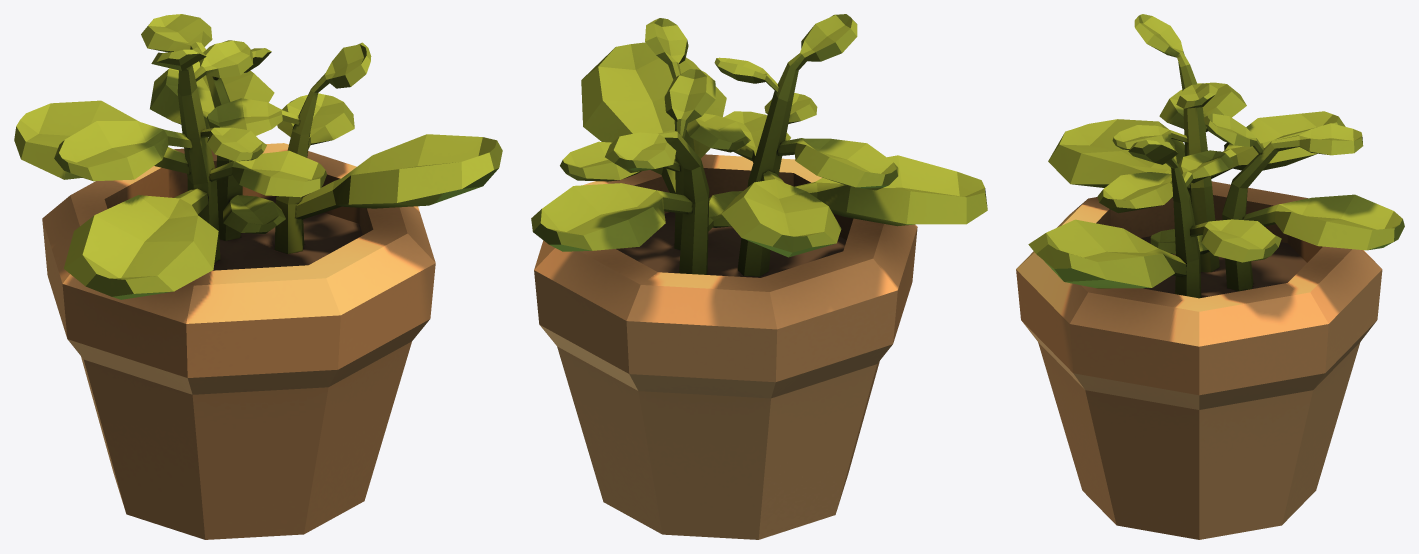
File: PUSHILIN_house_plant.obj
The picture shows the model from 3 angles, left to right: view 1: azimuth 30°, elevation 25°; view 2: azimuth 150°, elevation 25°; view 3: azimuth 270°, elevation 25°; orthographic projection. The views are drawn at different scales.
Visible parts, largest first — view 1: House_plant_; view 2: House_plant_; view 3: House_plant_.
Boxes of the visible parts, x1,y1,x2,y2 form: House_plant_: [14, 14, 502, 539]; House_plant_: [531, 14, 987, 539]; House_plant_: [1016, 14, 1404, 539].
Bounding box in the file's own units: 1.6 × 1.8 × 1.46.
Materials: 3 (3 with a texture image).
